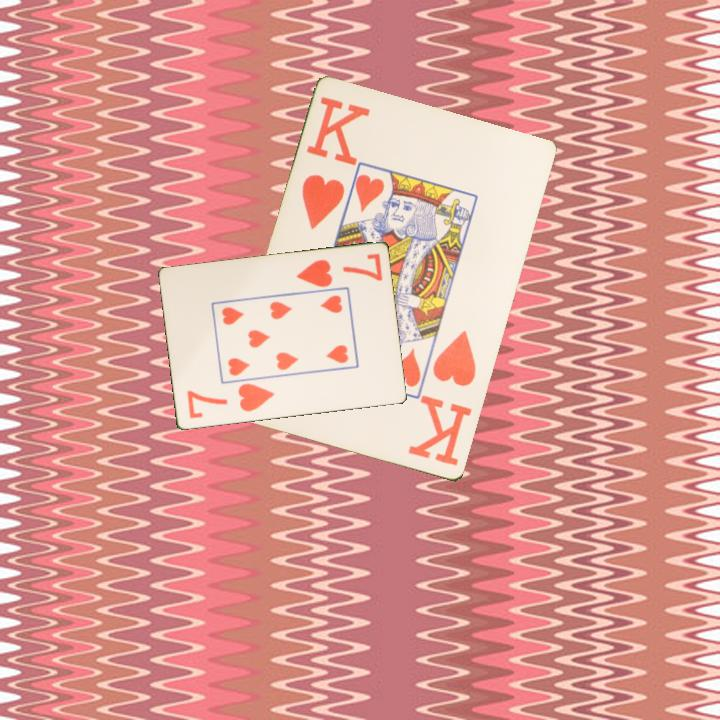7h: (183, 380, 277, 421), (293, 250, 385, 290)
Kh: (405, 327, 480, 470), (298, 93, 373, 233)
